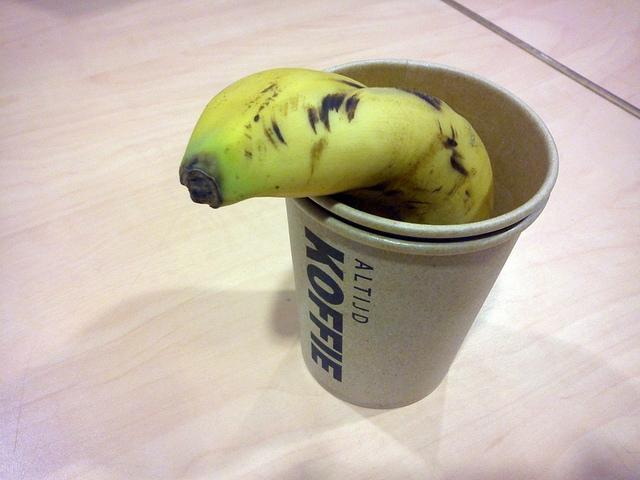banana: (180, 67, 494, 225)
